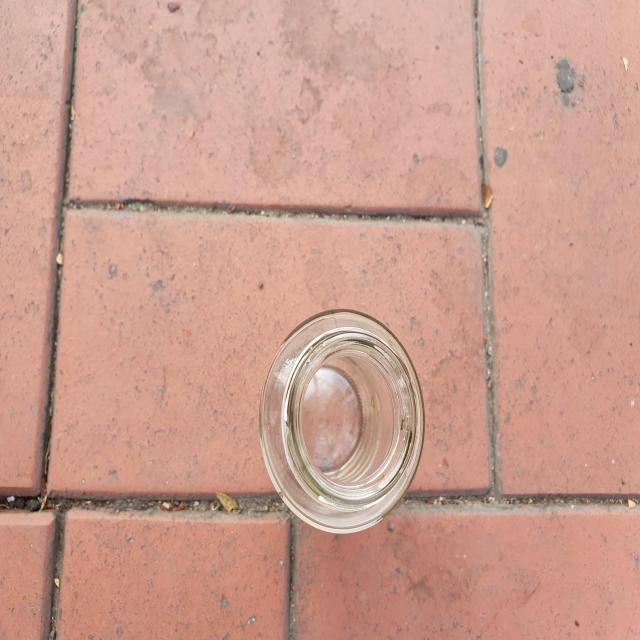glass: (260, 310, 425, 534)
